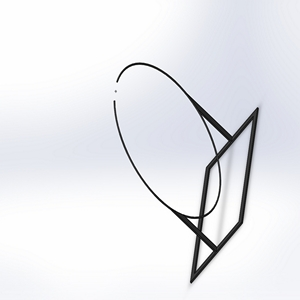circle: (110, 60, 259, 283)
